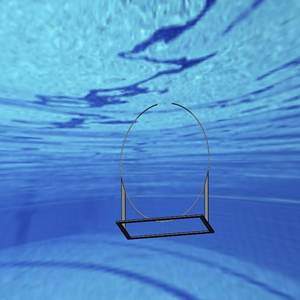circle: (115, 100, 215, 241)
